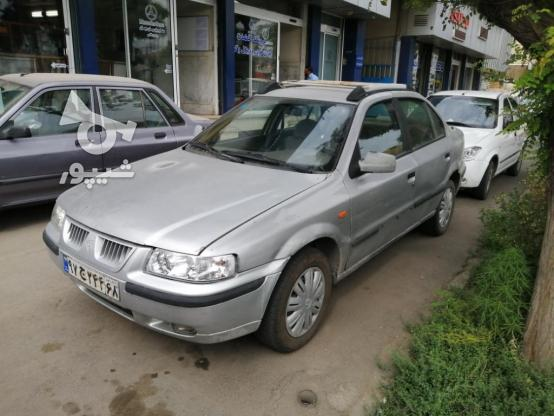car: (62, 254, 122, 303)
